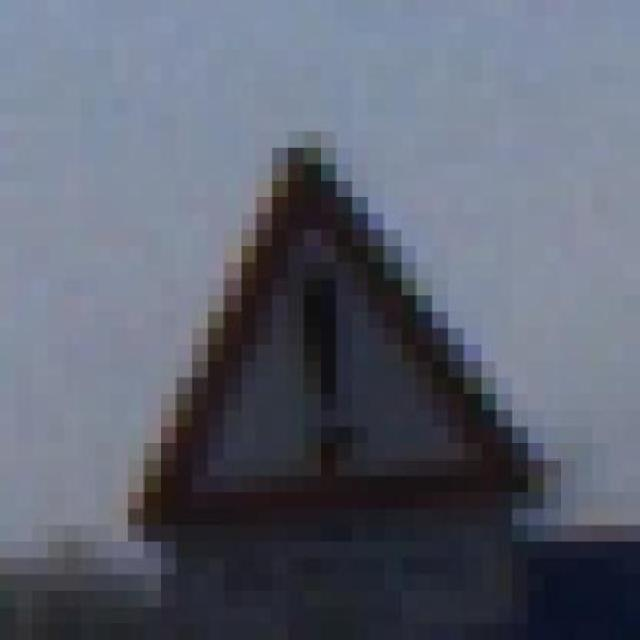Attention Please-: (49, 115, 576, 542)
